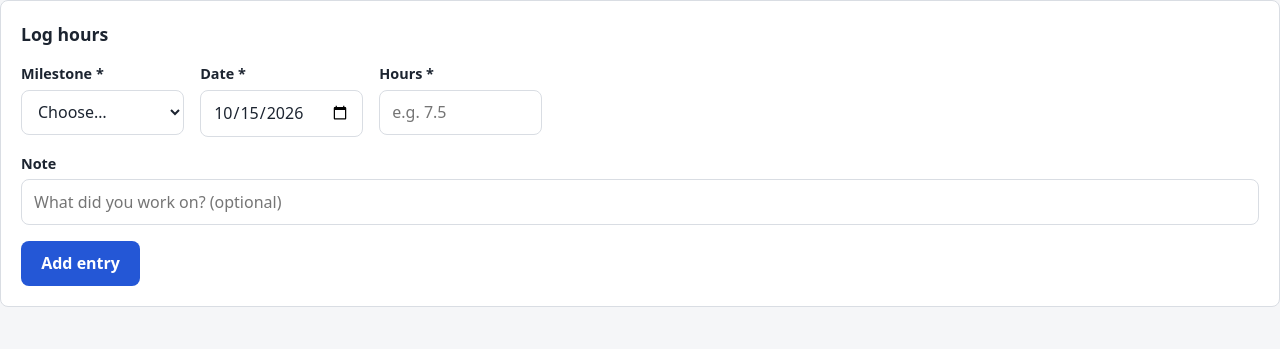
TimeEntryForm validation › requires a date and rejects future dates
The image size is (1280, 349).
Clear the date field labelled "Date *" at point(282, 113), box [200,90,363,137]
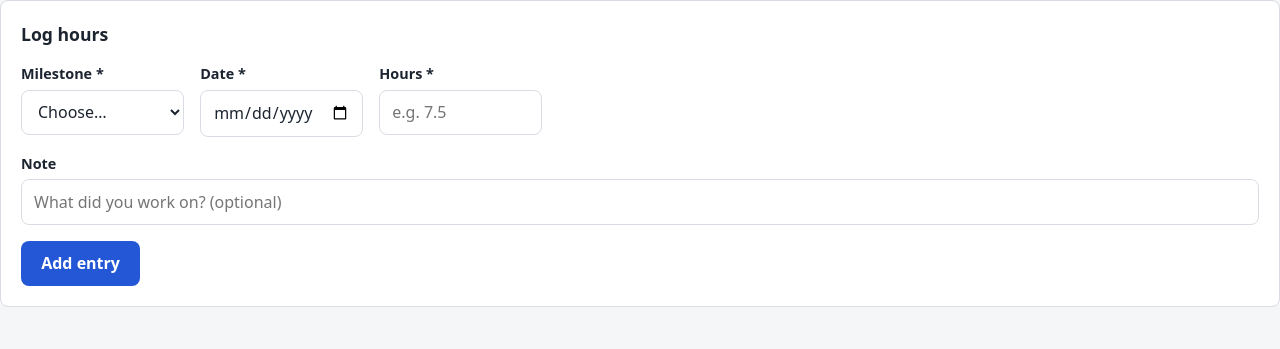
Click the button "Add entry".
click(81, 263)  # box [21,241,140,286]
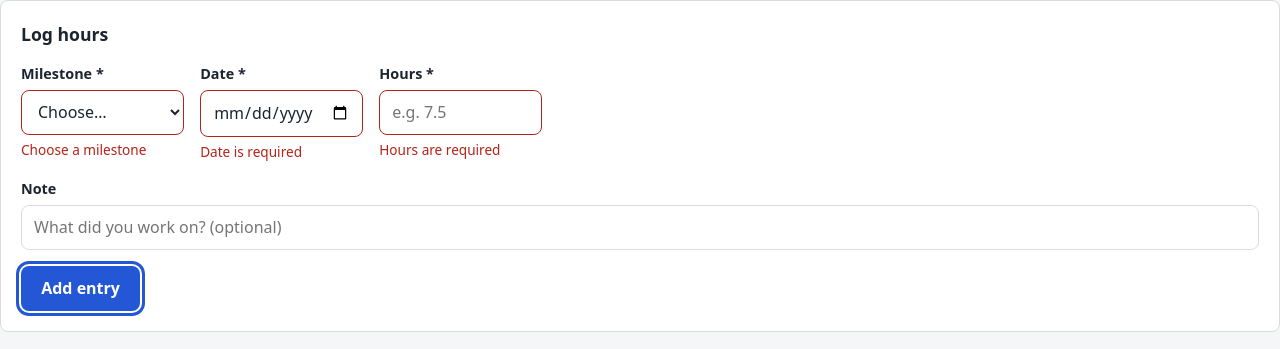
Now the text "Date is required" is shown, box [200,142,302,161]
Type "2999-01-01" into the date field labelled "Date *".
click(282, 113); type("2999-01-01")  # box [200,90,363,137]
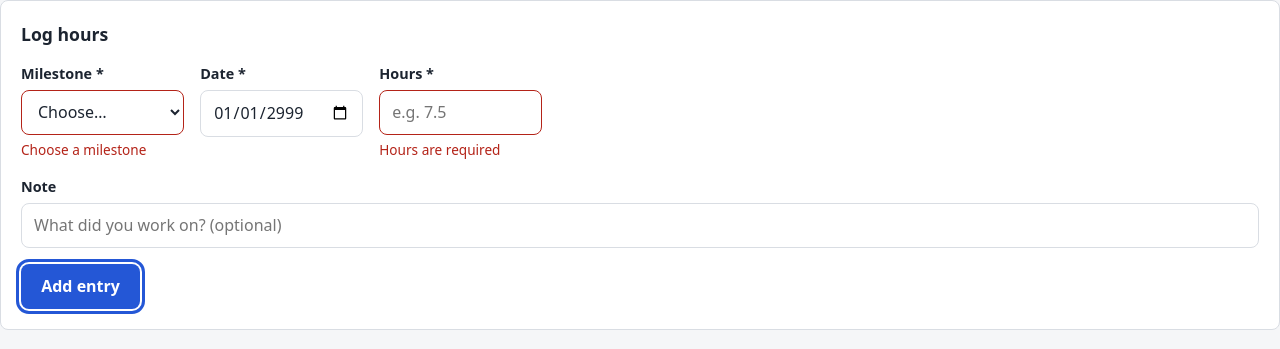
Click the button "Add entry".
click(81, 286)  # box [21,264,140,309]
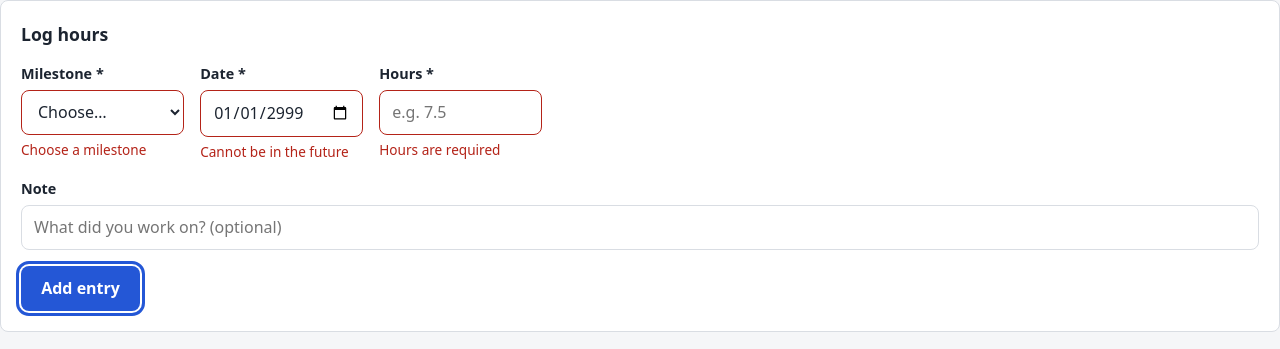
Now the text "Cannot be in the future" is shown, box [200,142,363,162]
